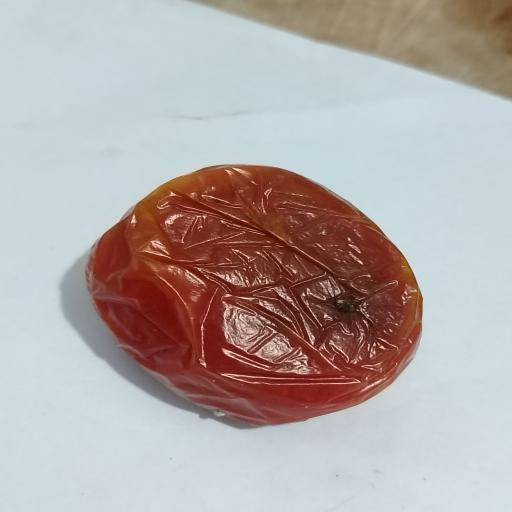spoiled: (88, 165, 421, 425)
